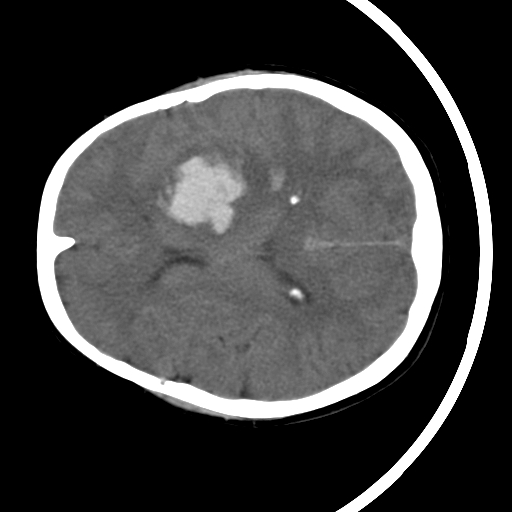a: (141, 126, 275, 250)
